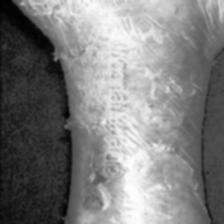Non-Cancerous Skin Condition: (128, 0, 188, 224), (75, 0, 97, 224), (21, 0, 58, 34)
